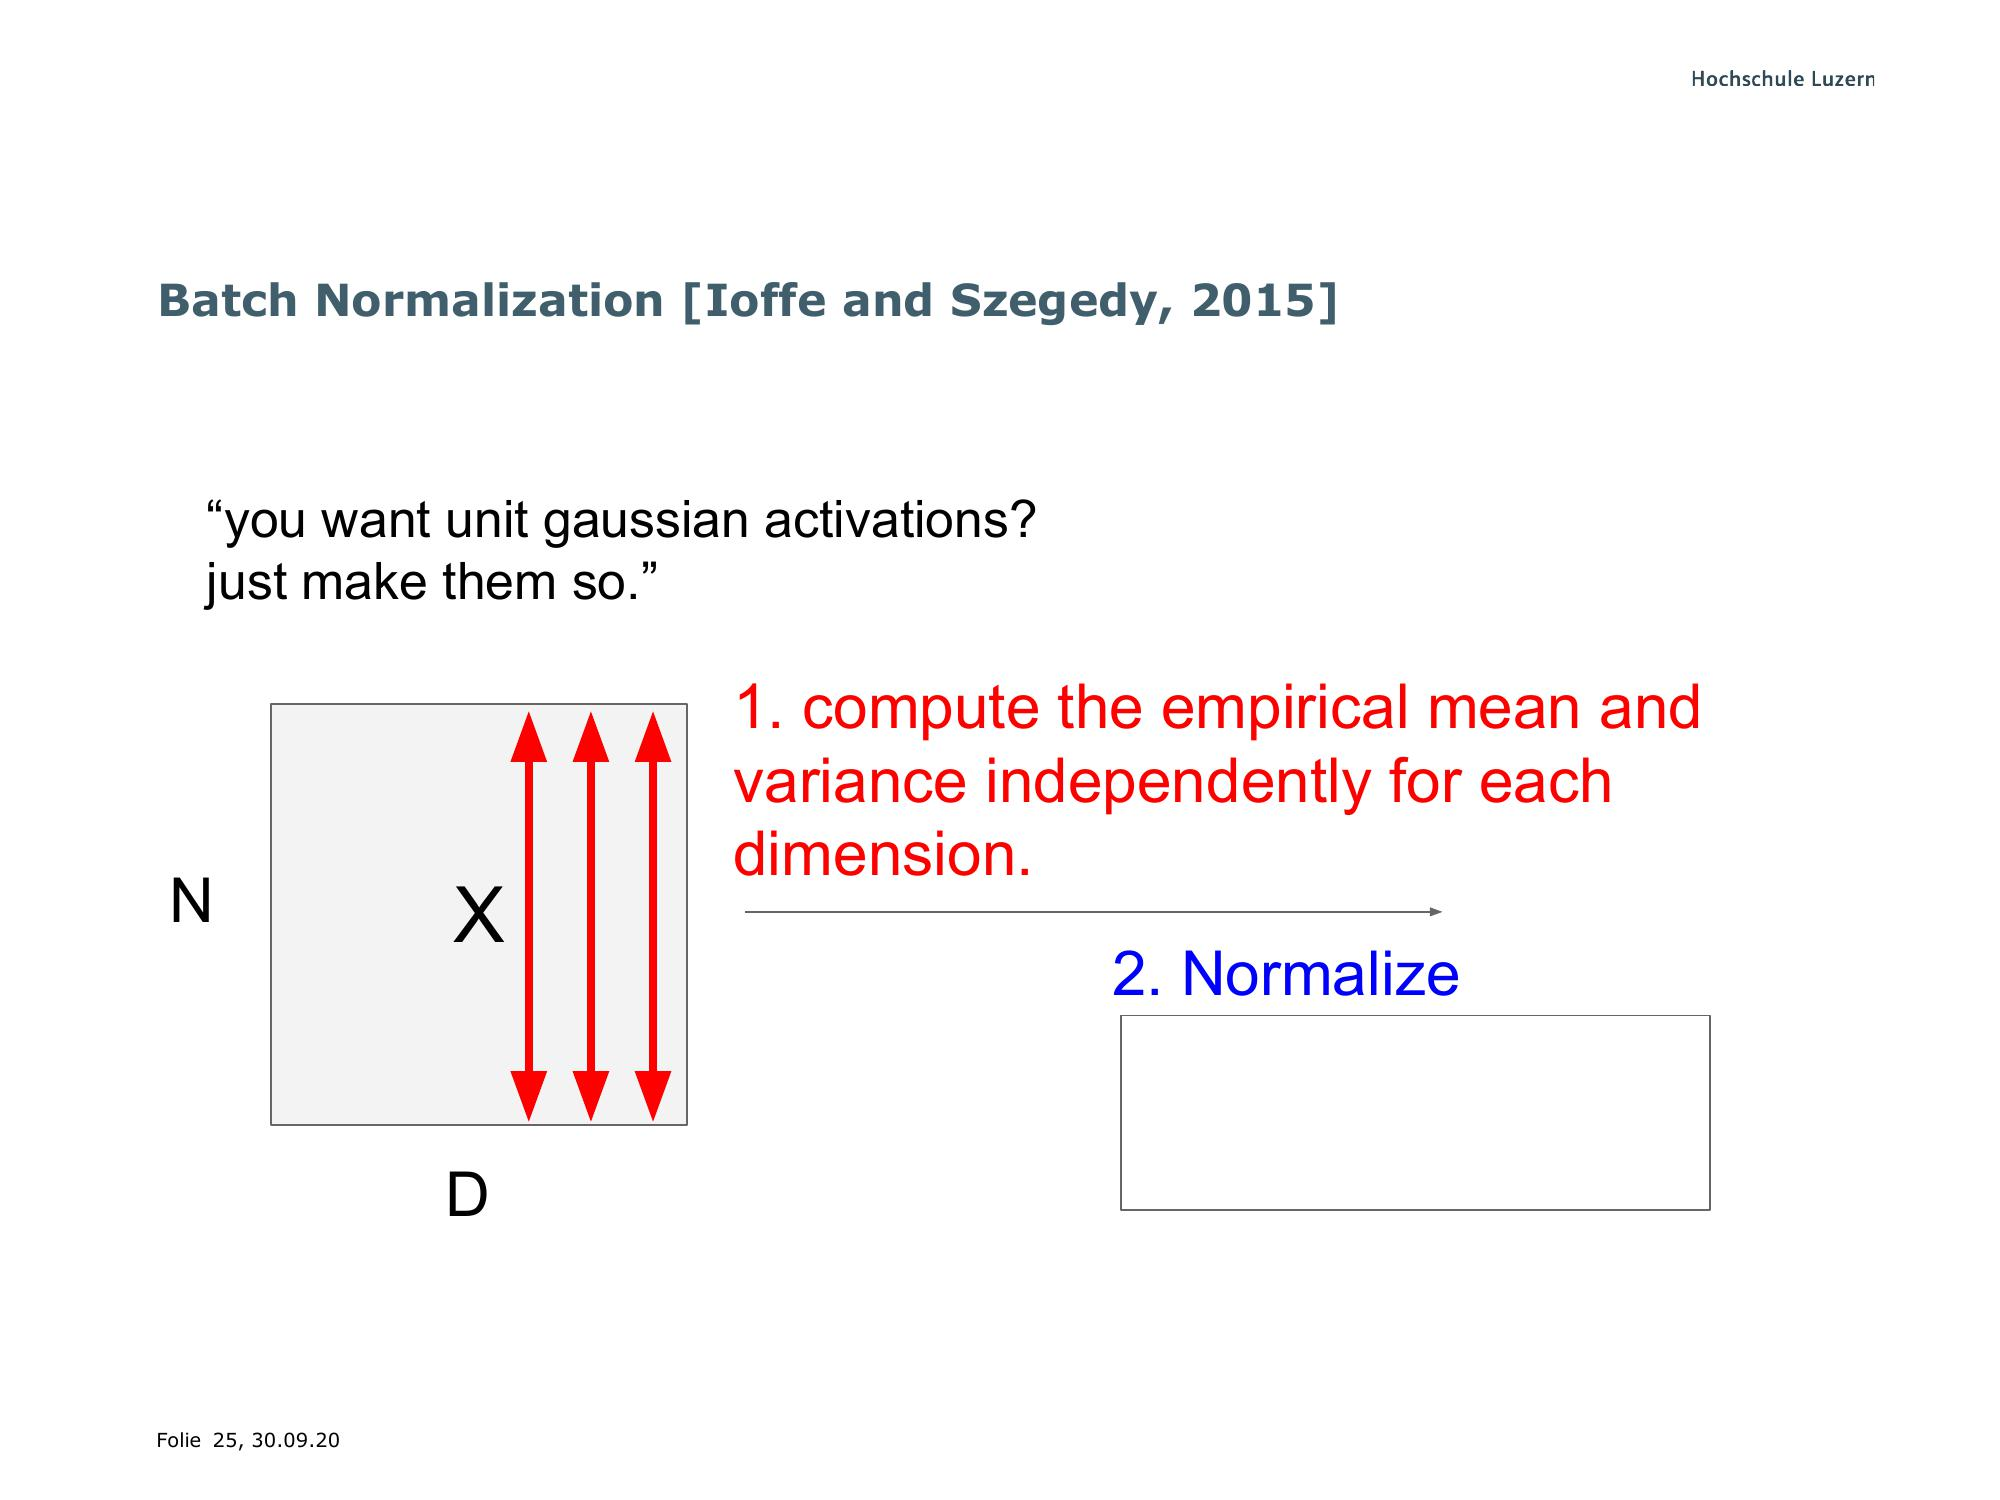Title: (150, 258, 1378, 339)
